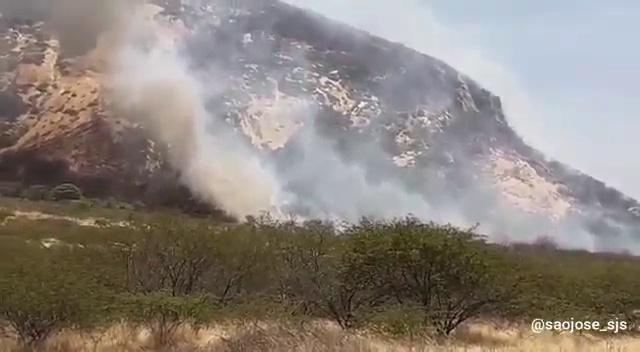smoke: (191, 149, 278, 211), (119, 43, 187, 121), (324, 165, 432, 213)
